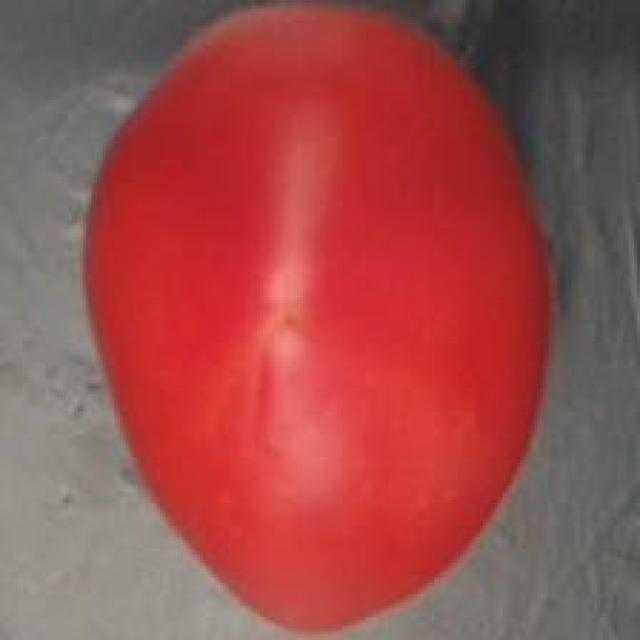ripe tomato: (68, 0, 563, 640)
